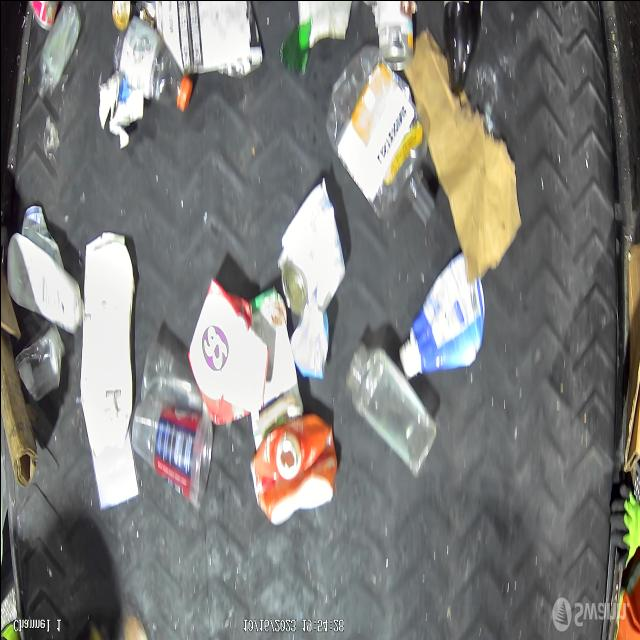can: (274, 188, 346, 312), (15, 320, 66, 406), (372, 0, 415, 73)
non_white_jug: (247, 401, 338, 537), (397, 244, 481, 382)
plastic_bottle: (108, 15, 192, 121)
